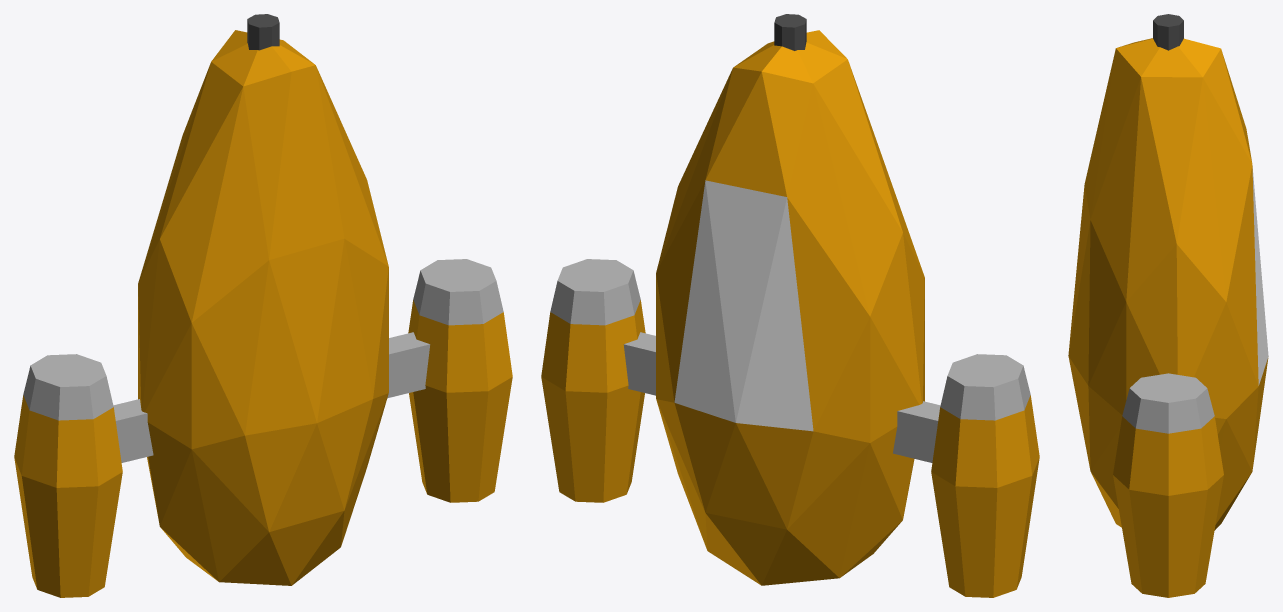
File: Vessel.fbx
3 views of the same model, side by side, from view 1: azimuth 30°, elevation 25°; view 2: azimuth 150°, elevation 25°; view 3: azimuth 270°, elevation 25° (orthographic). The views are drawn at different scales.
Visible parts, largest first — view 1: Vessel; view 2: Vessel; view 3: Vessel.
Part boxes in pixels (bbox=[...]): Vessel: bbox=[14, 14, 512, 597]; Vessel: bbox=[541, 14, 1039, 597]; Vessel: bbox=[1068, 14, 1268, 597].
Size of the model in its own units: 335 by 360 by 130.
